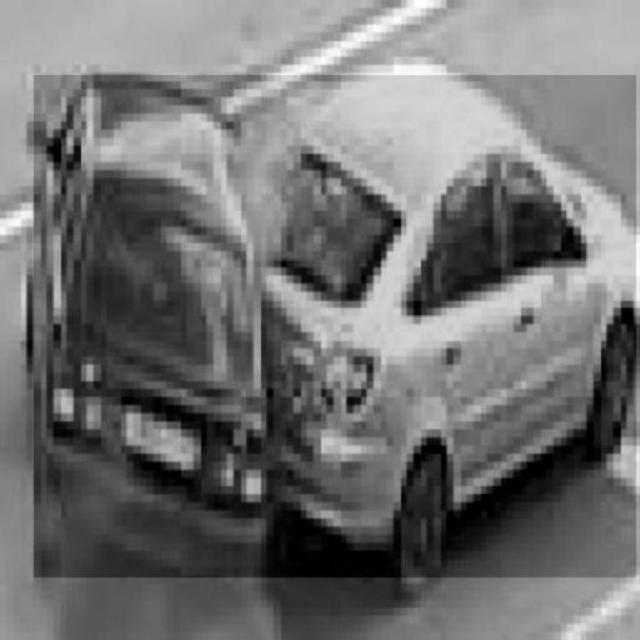accident: (34, 75, 636, 579)
